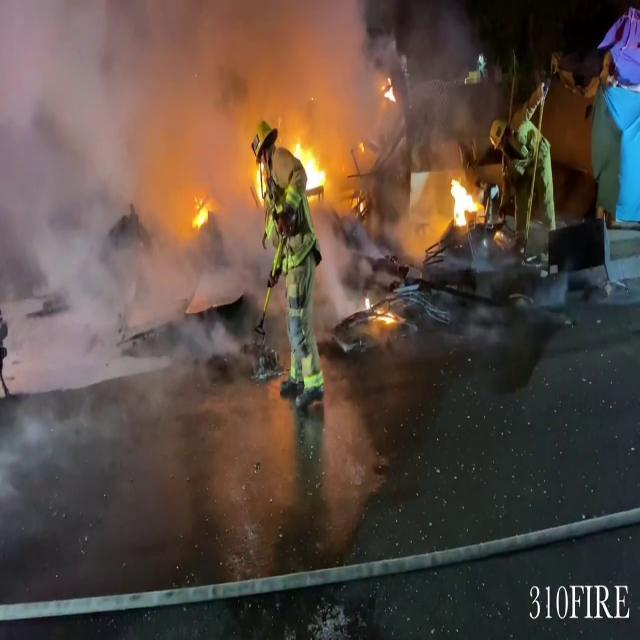Fire: (440, 173, 486, 233), (363, 298, 402, 329)
Smoke: (0, 0, 485, 306)
